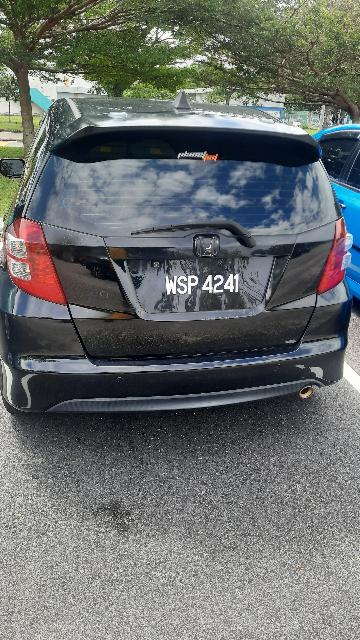License_Plate: (144, 256, 276, 313)
car: (2, 92, 358, 426)
